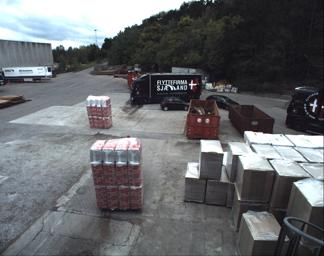rockwool_batts: (90, 140, 143, 208), (85, 94, 112, 127)
